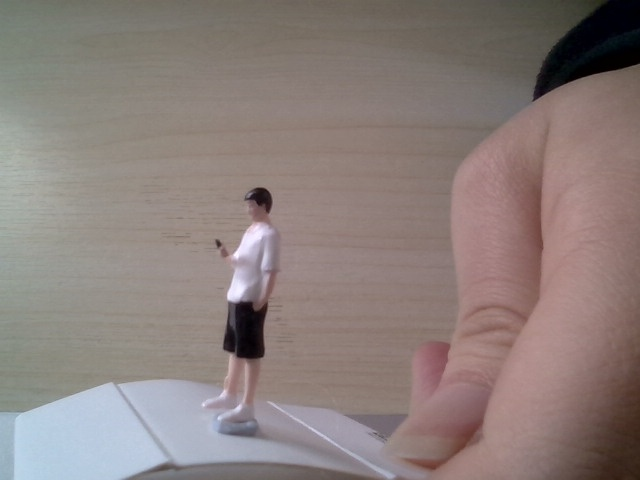walk: (193, 180, 290, 433)
